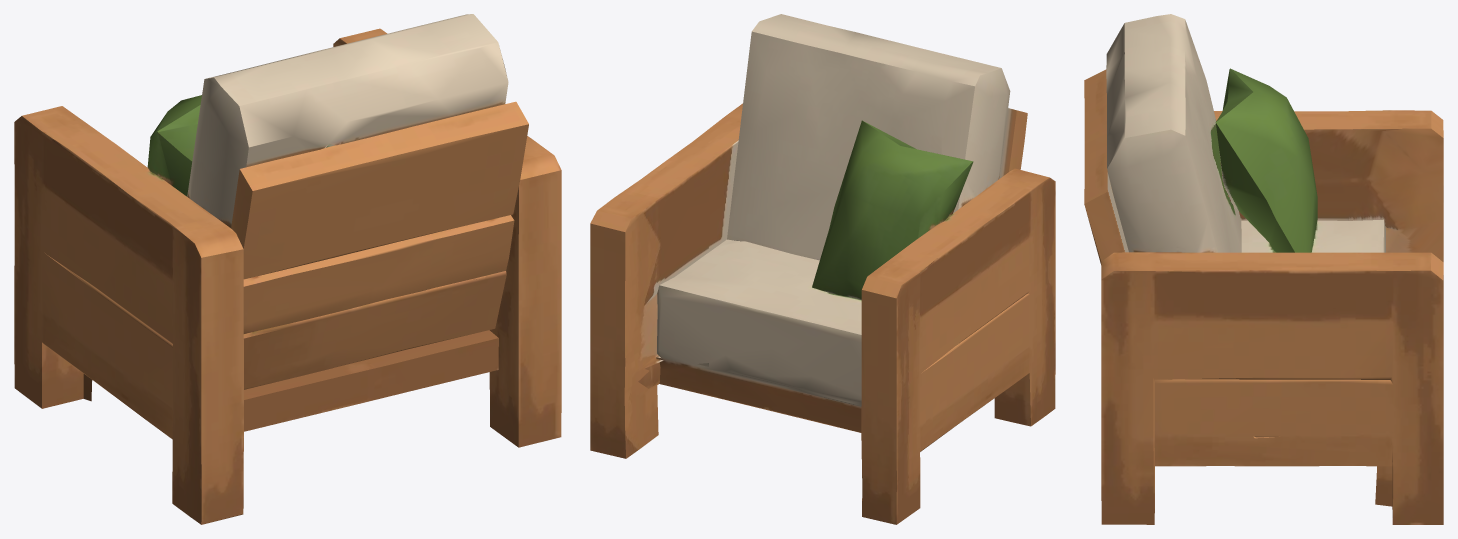
The model's file is seat_reading-chair_v2.glb.
The picture shows the model from 3 angles, left to right: view 1: azimuth 30°, elevation 25°; view 2: azimuth 150°, elevation 25°; view 3: azimuth 270°, elevation 25°; orthographic projection. The views are drawn at different scales.
Visible parts, largest first — view 1: body; view 2: body; view 3: body.
Part boxes in pixels (x1=…): body: x1=14, y1=14, x2=561, y2=524; body: x1=590, y1=14, x2=1055, y2=524; body: x1=1084, y1=14, x2=1443, y2=524.
Size of the model in its own units: 0.8595 by 0.9297 by 0.8105.
1 material, 1 textured.
